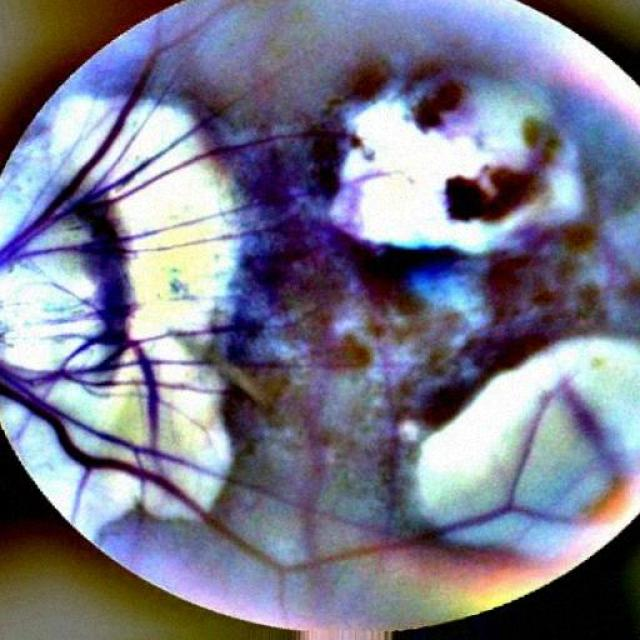Macula: (351, 246, 458, 313)
Nerves: (7, 393, 451, 616), (73, 75, 357, 218), (9, 42, 163, 243)
Optic Disk: (2, 259, 96, 363)
